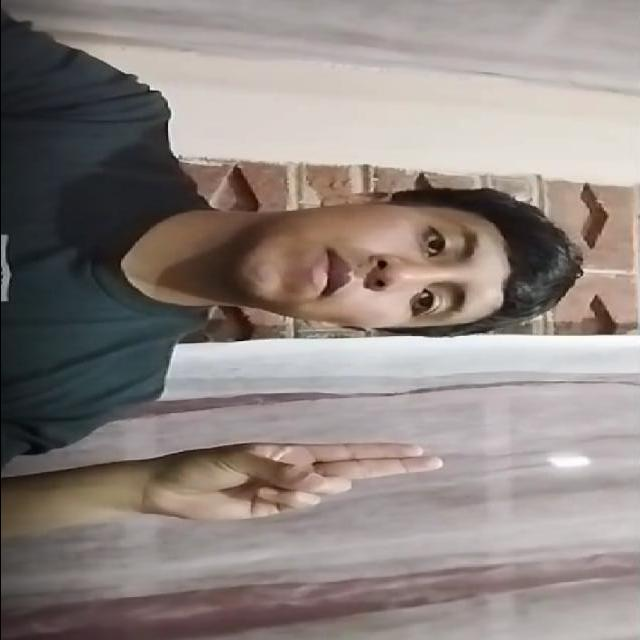U: (133, 418, 443, 540)
